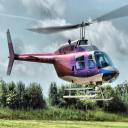helicopter: (6, 21, 124, 103)
